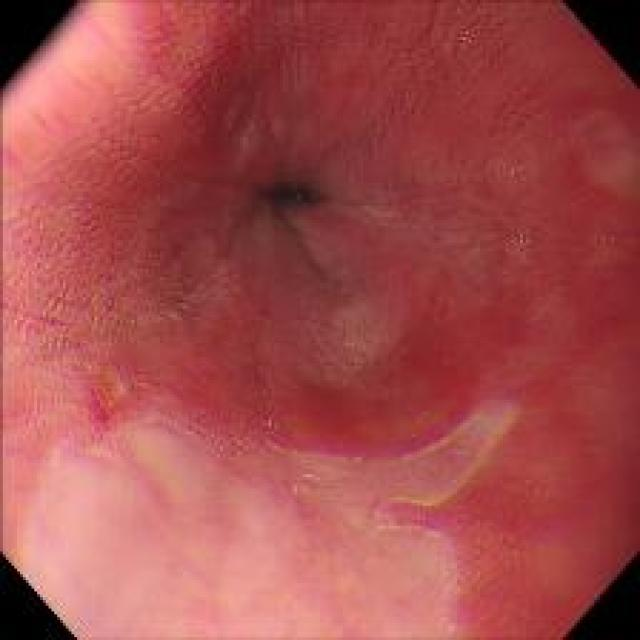blur: (2, 4, 636, 638)
bubbles: (290, 465, 322, 499), (264, 418, 280, 430)
